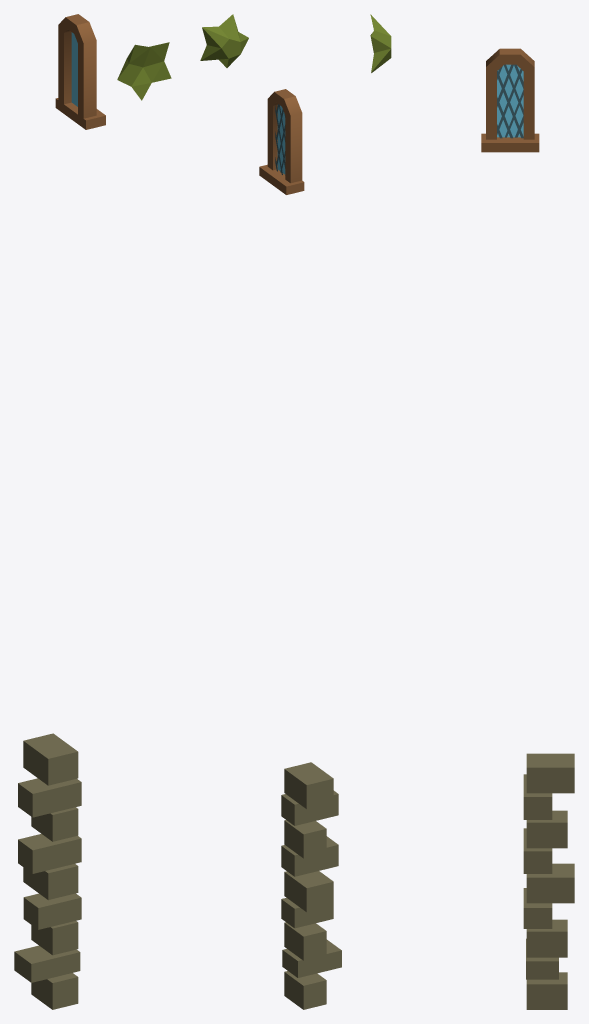
The picture shows the model from 3 angles, left to right: view 1: azimuth 30°, elevation 25°; view 2: azimuth 210°, elevation 25°; view 3: azimuth 270°, elevation 25°; orthographic projection. The views are drawn at different scales.
Parts seen in each view (by area): view 1: Box15379_rock2_0, Plane472_brown_0, Box15983_green2_0, Box15759_brown_0, Plane474_mirror_0; view 2: Box15379_rock2_0, Plane472_brown_0, Box15983_green2_0, Box15759_brown_0, Plane474_mirror_0, Plane473_metal_0; view 3: Box15379_rock2_0, Plane472_brown_0, Plane474_mirror_0, Plane473_metal_0, Box15759_brown_0, Box15983_green2_0.
Boxes of the visible parts, x1,y1,x2,y2 form: Box15379_rock2_0: [14, 733, 81, 1009]; Plane472_brown_0: [58, 14, 96, 118]; Box15983_green2_0: [117, 42, 171, 100]; Box15759_brown_0: [55, 98, 105, 129]; Plane474_mirror_0: [71, 32, 77, 106]; Box15379_rock2_0: [281, 762, 341, 1009]; Plane472_brown_0: [267, 89, 302, 183]; Box15983_green2_0: [200, 14, 248, 67]; Box15759_brown_0: [259, 164, 304, 194]; Plane474_mirror_0: [277, 105, 285, 174]; Plane473_metal_0: [275, 104, 285, 174]; Box15379_rock2_0: [523, 753, 574, 1009]; Plane472_brown_0: [486, 48, 534, 139]; Plane474_mirror_0: [497, 64, 523, 137]; Plane473_metal_0: [497, 64, 523, 138]; Box15759_brown_0: [481, 133, 539, 152]; Box15983_green2_0: [370, 14, 391, 72].
Size of the model in its own units: 91.64 by 1507 by 283.
